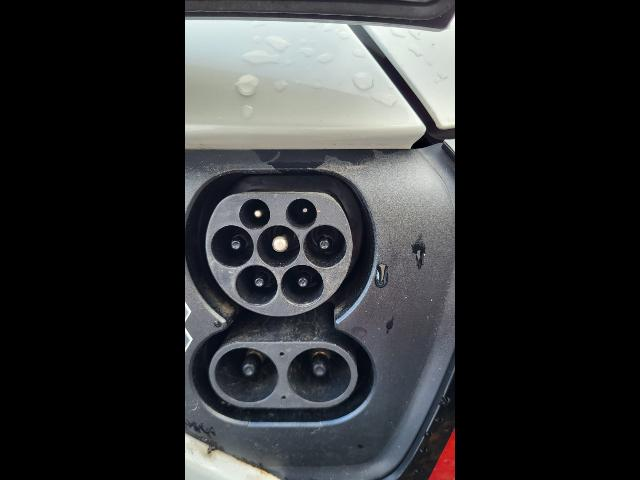inlet: (205, 192, 352, 316)
inlet-above-left: (239, 198, 270, 230)
inlet-above-right: (285, 198, 317, 230)
inlet-below-left: (236, 265, 278, 306)
inlet-below-right: (281, 265, 324, 307)
inlet-circle: (256, 225, 300, 268)
inlet-circle-left: (211, 225, 254, 268)
inlet-circle-right: (303, 225, 346, 268)
inlet-minus: (287, 347, 351, 402)
inlet-plus: (215, 347, 279, 402)
